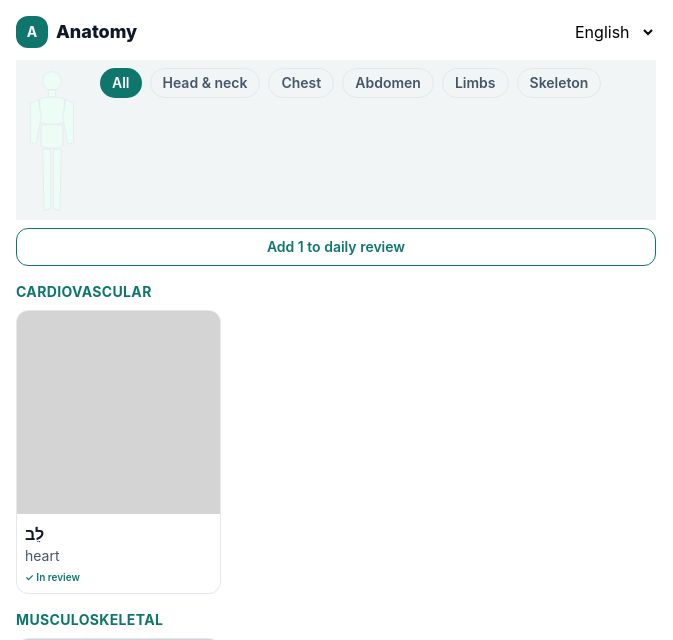
Test: AnatomyPage › seeds only the not-yet-added shown terms into review
Expected: the text "heart" is shown, [25, 547, 60, 564]
Click the button with test id "anatomy-add-to-review": (336, 247) [16, 228, 656, 266]
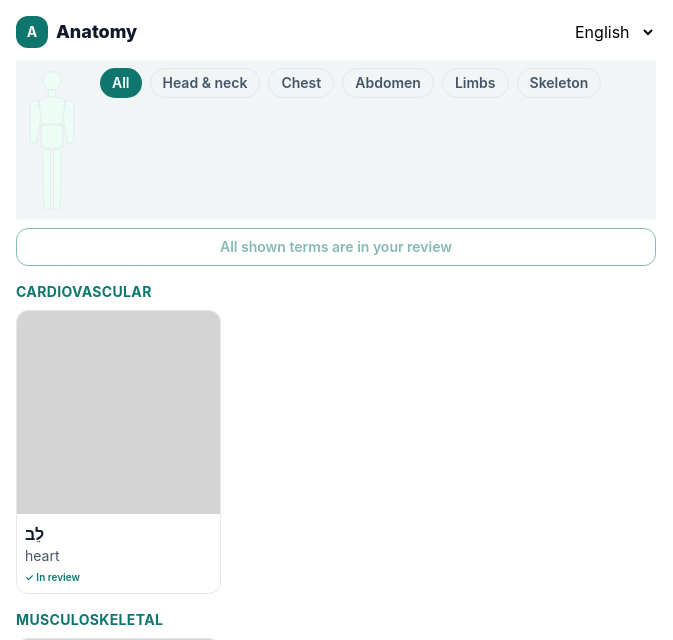
Result: the button with test id "anatomy-add-to-review" is disabled at [16, 228, 656, 266]
